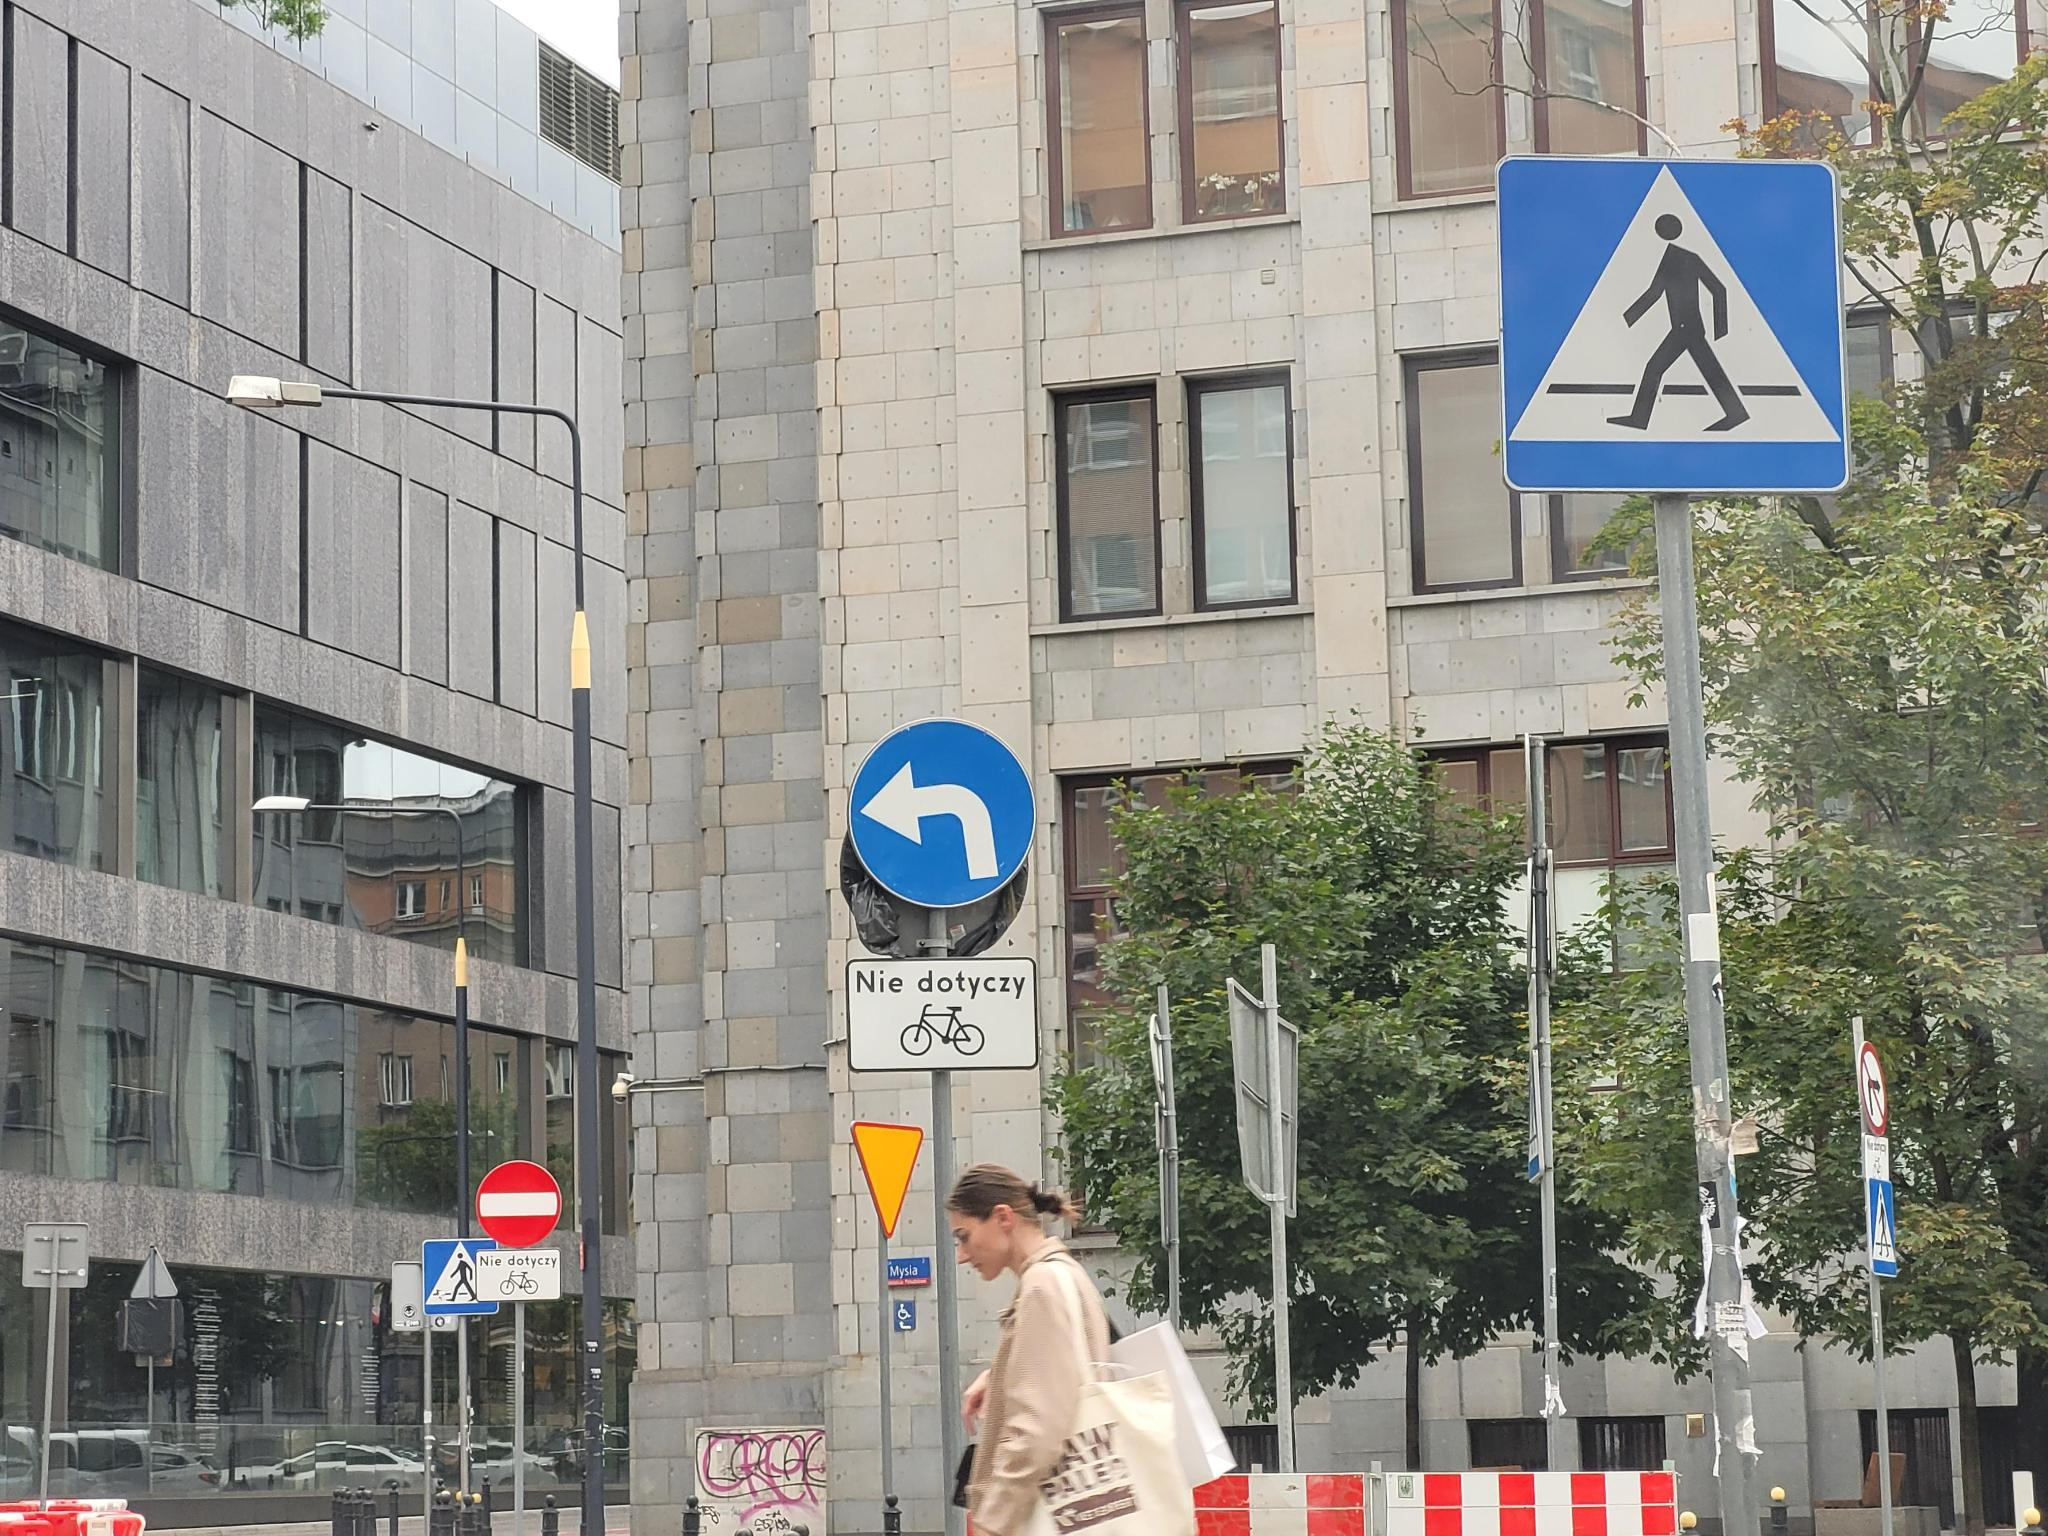information: (1503, 157, 1848, 490), (426, 1241, 498, 1313), (1871, 1179, 1895, 1276)
mandatory: (848, 715, 1035, 910)
other: (848, 960, 1035, 1066), (476, 1250, 560, 1302), (1864, 1136, 1888, 1181)
prohibitory: (476, 1160, 561, 1249), (1858, 1041, 1887, 1137)
warning: (850, 1118, 924, 1239)
